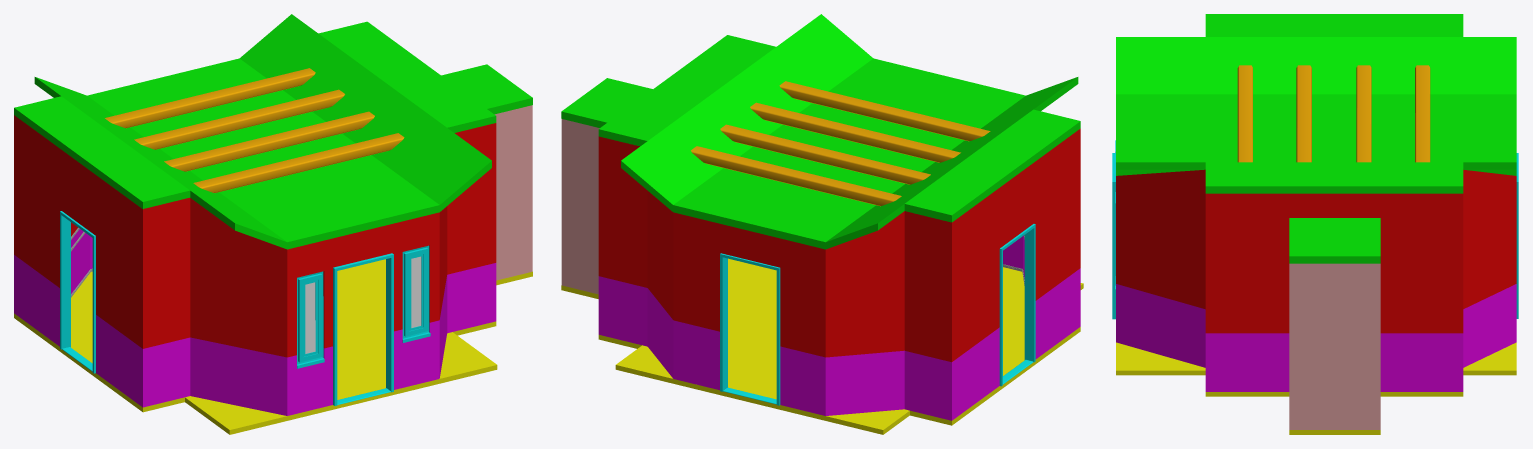
The model's file is FloorPlan521_physics.fbx.
3 views of the same model, side by side, from view 1: azimuth 30°, elevation 25°; view 2: azimuth 150°, elevation 25°; view 3: azimuth 270°, elevation 25° (orthographic).
Visible parts, largest first — view 1: FP521:Walls_5, FP521:Ceiling_1, FP521:Floor_1, FP521:Walls_2, FP521:Beam_2, FP521:Beam_1, FP521:Beam_3, FP521:Beam_4, FP521:Ceiling_2, FP521:DoorFrame_2, FP521:DoorFrame_1, FP521:WindowFrame_2 (+3 smaller); view 2: FP521:Walls_5, FP521:Ceiling_1, FP521:Floor_1, FP521:Walls_2, FP521:Beam_1, FP521:Beam_3, FP521:Beam_2, FP521:Beam_4, FP521:Ceiling_2, FP521:DoorFrame_2, FP521:DoorFrame_3; view 3: FP521:Walls_5, FP521:Ceiling_1, FP521:Walls_2, FP521:Ceiling_2, FP521:Floor_1, FP521:Beam_3, FP521:Beam_2, FP521:Beam_1, FP521:Beam_4, FP521:DoorFrame_1, FP521:DoorFrame_3, FP521:Floor_2.
Boxes of the visible parts, box(x1,y1,x2,y2) form: FP521:Walls_5: box(14, 115, 496, 415); FP521:Ceiling_1: box(14, 14, 496, 249); FP521:Floor_1: box(14, 259, 497, 434); FP521:Walls_2: box(494, 105, 532, 280); FP521:Beam_2: box(164, 111, 374, 171); FP521:Beam_1: box(193, 133, 404, 192); FP521:Beam_3: box(134, 89, 344, 149); FP521:Beam_4: box(105, 68, 315, 128); FP521:Ceiling_2: box(441, 64, 532, 114); FP521:DoorFrame_2: box(60, 211, 95, 373); FP521:DoorFrame_1: box(333, 253, 393, 405); FP521:WindowFrame_2: box(402, 245, 430, 342); FP521:Walls_5: box(598, 128, 1080, 420); FP521:Ceiling_1: box(598, 14, 1080, 249); FP521:Floor_1: box(598, 258, 1083, 434); FP521:Walls_2: box(561, 119, 599, 294); FP521:Beam_1: box(779, 81, 990, 141); FP521:Beam_3: box(720, 124, 930, 184); FP521:Beam_2: box(750, 102, 960, 162); FP521:Beam_4: box(691, 146, 901, 206); FP521:Ceiling_2: box(561, 78, 652, 127); FP521:DoorFrame_2: box(999, 224, 1035, 386); FP521:DoorFrame_3: box(720, 253, 780, 405); FP521:Walls_5: box(1116, 169, 1516, 391); FP521:Ceiling_1: box(1116, 14, 1516, 193); FP521:Walls_2: box(1289, 263, 1380, 429); FP521:Ceiling_2: box(1289, 218, 1380, 263); FP521:Floor_1: box(1116, 342, 1516, 396); FP521:Beam_3: box(1356, 65, 1371, 162); FP521:Beam_2: box(1296, 65, 1311, 162); FP521:Beam_1: box(1237, 65, 1252, 162); FP521:Beam_4: box(1415, 65, 1430, 162); FP521:DoorFrame_1: box(1112, 153, 1115, 319); FP521:DoorFrame_3: box(1516, 153, 1518, 318); FP521:Floor_2: box(1289, 430, 1380, 434).
Size of the model in its own units: 681 by 316 by 553.
